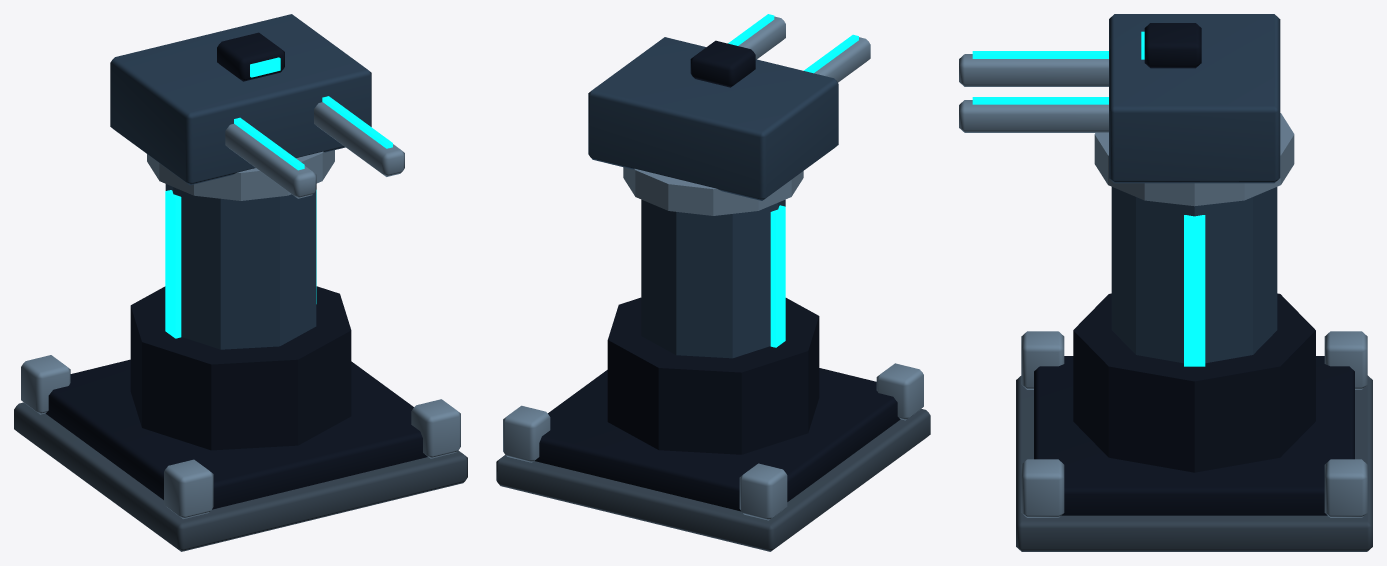
File: tower.glb
3 renders of one model, left to right at view 1: azimuth 30°, elevation 25°; view 2: azimuth 150°, elevation 25°; view 3: azimuth 270°, elevation 25°, orthographic. The views are drawn at different scales.
Parts seen in each view (by area): view 1: Gun housing, Tower pedestal, Undercarriage, Armored column, Foundation, Turret bearing, Twin cannon, Twin cannon.001, Corner lock.001, Column signal, Corner lock.003, Targeting sensor (+3 smaller); view 2: Gun housing, Tower pedestal, Undercarriage, Armored column, Foundation, Turret bearing, Corner lock, Targeting sensor, Column signal, Corner lock.002, Corner lock.001, Twin cannon (+2 smaller); view 3: Tower pedestal, Gun housing, Armored column, Undercarriage, Foundation, Twin cannon.001, Turret bearing, Twin cannon, Column signal.001, Targeting sensor, Corner lock.003, Corner lock.002 (+4 smaller).
Part boxes in pixels (bbox=[...]): Gun housing: bbox=[110, 14, 371, 185]; Tower pedestal: bbox=[130, 286, 351, 450]; Undercarriage: bbox=[45, 359, 427, 509]; Armored column: bbox=[165, 184, 316, 349]; Foundation: bbox=[14, 402, 467, 551]; Turret bearing: bbox=[147, 150, 334, 200]; Twin cannon: bbox=[225, 124, 316, 198]; Twin cannon.001: bbox=[314, 102, 404, 176]; Corner lock.001: bbox=[164, 459, 213, 518]; Column signal: bbox=[165, 190, 181, 338]; Corner lock.003: bbox=[411, 399, 460, 458]; Targeting sensor: bbox=[217, 32, 284, 81]; Gun housing: bbox=[588, 37, 838, 200]; Tower pedestal: bbox=[607, 297, 819, 454]; Undercarriage: bbox=[535, 368, 900, 511]; Armored column: bbox=[641, 199, 785, 358]; Foundation: bbox=[496, 409, 930, 551]; Turret bearing: bbox=[623, 167, 803, 215]; Corner lock: bbox=[739, 463, 787, 520]; Targeting sensor: bbox=[690, 40, 755, 87]; Column signal: bbox=[770, 205, 785, 347]; Corner lock.002: bbox=[503, 405, 550, 462]; Corner lock.001: bbox=[876, 363, 923, 420]; Twin cannon: bbox=[814, 37, 870, 82]; Tower pedestal: bbox=[1073, 293, 1315, 472]; Gun housing: bbox=[1109, 14, 1280, 183]; Armored column: bbox=[1111, 187, 1277, 363]; Undercarriage: bbox=[1034, 356, 1354, 515]; Foundation: bbox=[1016, 375, 1372, 551]; Twin cannon.001: bbox=[959, 100, 1108, 132]; Turret bearing: bbox=[1094, 113, 1294, 206]; Twin cannon: bbox=[959, 54, 1108, 86]; Column signal.001: bbox=[1184, 215, 1205, 366]; Targeting sensor: bbox=[1144, 23, 1201, 68]; Corner lock.003: bbox=[1021, 459, 1064, 517]; Corner lock.002: bbox=[1324, 459, 1367, 517].
Size of the model in its own units: 2.5 by 3.45 by 2.9.
